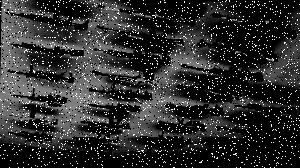sniper: (91, 0, 203, 30), (208, 7, 297, 43), (178, 55, 266, 87), (193, 34, 281, 66), (92, 39, 175, 69), (5, 56, 78, 86), (170, 76, 245, 104), (87, 66, 164, 91), (8, 79, 69, 109), (84, 81, 153, 103), (161, 95, 225, 118), (1, 123, 58, 148), (58, 141, 118, 164), (235, 101, 298, 121), (0, 141, 52, 163), (214, 122, 274, 141), (87, 97, 143, 117), (202, 144, 264, 162), (155, 115, 209, 135), (138, 128, 194, 147), (128, 140, 178, 161), (65, 130, 123, 147)
